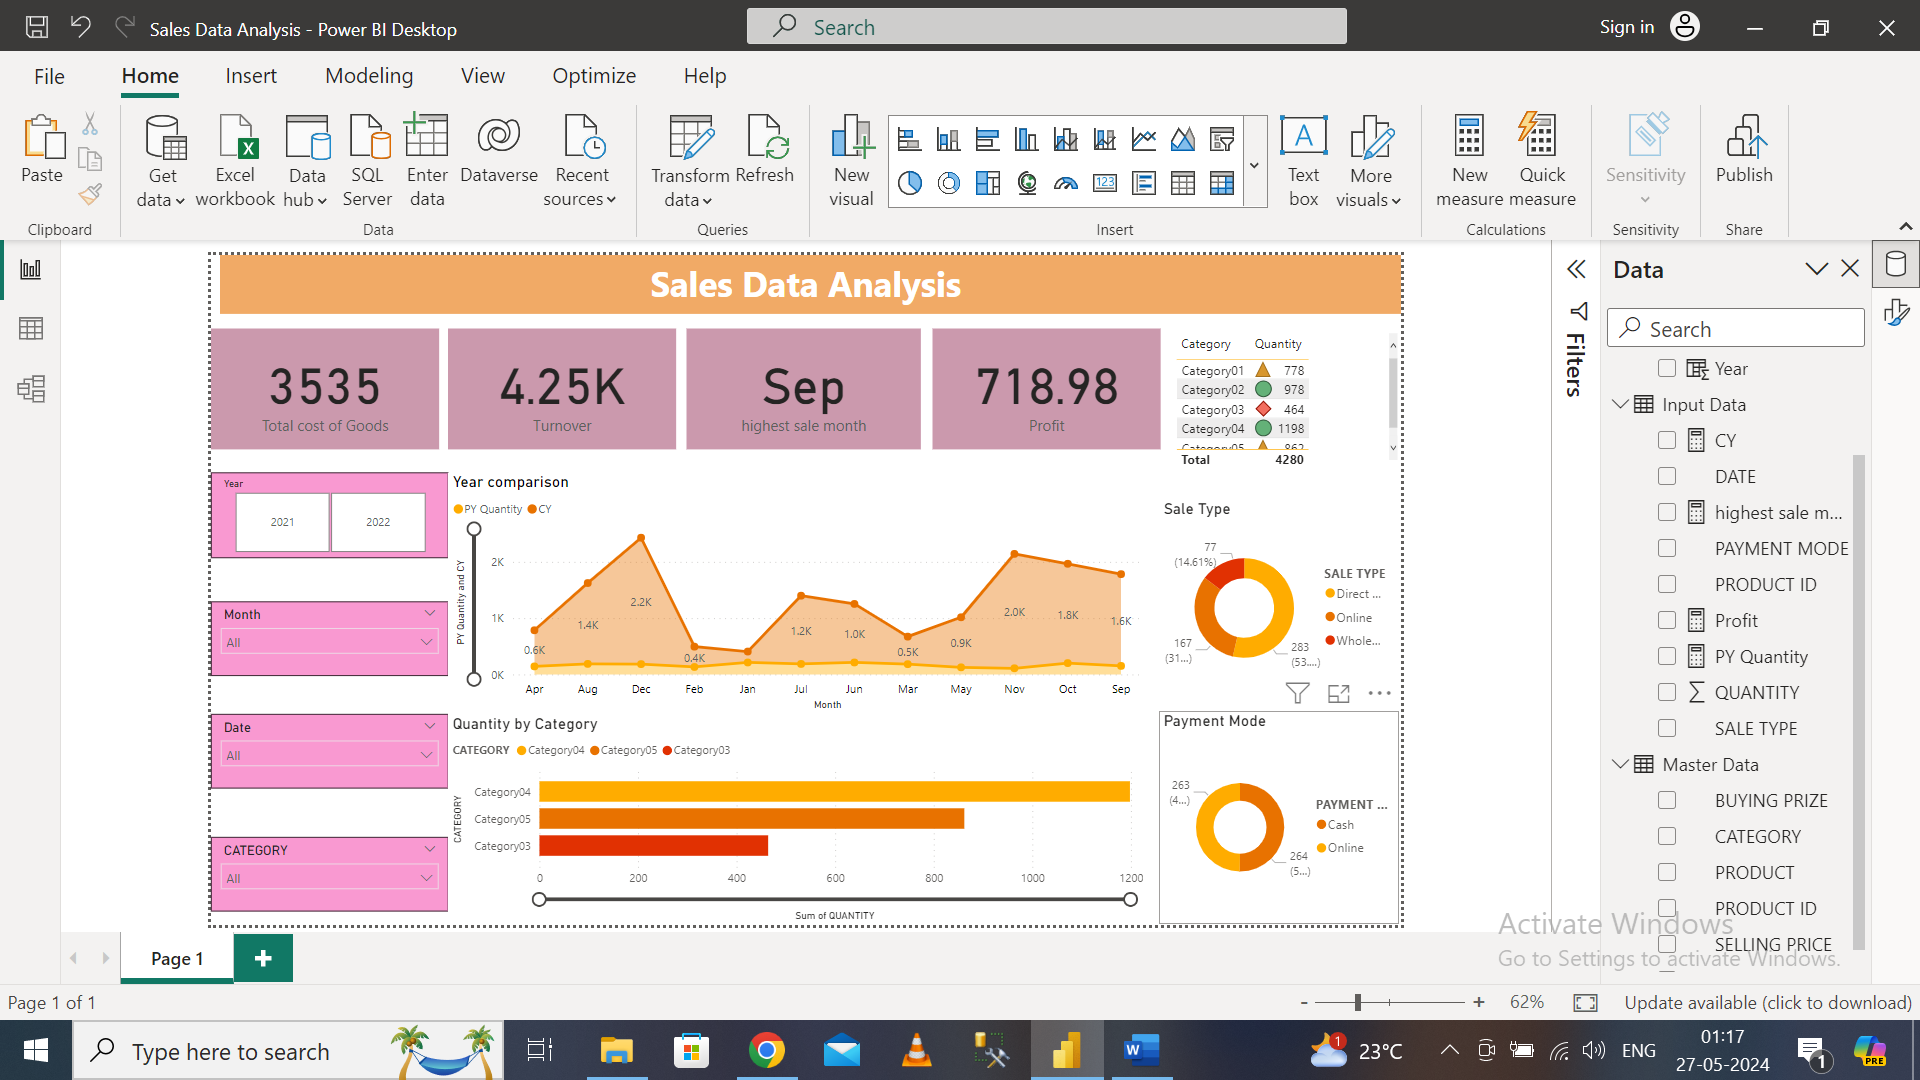

What the dashboard file says about the page in this screenshot:
{"tool":"powerbi","page":{"name":"Page 1","canvas":[1280,720],"ordinal":0},"visuals":[{"type":"textbox","box":[10,0,1270,63.3],"z":0},{"type":"slicer","fields":{"Values":["calender.Year"]},"box":[0,233.3,255,91.7],"z":1000},{"type":"slicer","fields":{"Values":["calender.Date"]},"box":[0,493.3,255,80],"z":2000},{"type":"slicer","fields":{"Values":["calender.Month"]},"box":[0,373.3,255,80],"z":3000},{"type":"slicer","fields":{"Values":["Master Data.CATEGORY"]},"box":[0,625,255,80],"z":4000},{"type":"card","fields":{"Values":["Sum(Master Data.BUYING PRIZE)"]},"box":[0,78.3,245,130],"z":5000},{"type":"card","fields":{"Values":["Sum(Master Data.SELLING PRICE)"]},"box":[255,78.3,245,130],"z":6000},{"type":"card","fields":{"Values":["Input Data.highest sale month"]},"box":[511.7,78.3,251.7,130],"z":7000},{"type":"card","fields":{"Values":["Input Data.Profit"]},"box":[775,78.3,245,130],"z":8000},{"type":"tableEx","fields":{"Values":["Master Data.CATEGORY","Sum(Input Data.QUANTITY)"]},"box":[1031.7,78.3,248.3,155],"z":9000},{"type":"donutChart","title":"Sale Type","fields":{"Category":["Input Data.SALE TYPE"],"Y":["CountNonNull(Input Data.SALE TYPE)"]},"box":[1020,263.3,256.7,213.3],"z":10000},{"type":"donutChart","title":"Payment Mode","fields":{"Category":["Input Data.PAYMENT MODE"],"Y":["CountNonNull(Input Data.PAYMENT MODE)"]},"box":[1020,490,256.7,230],"z":11000},{"type":"stackedAreaChart","title":"Year comparison","fields":{"Y":["Input Data.PY Quantity","Input Data.CY"],"Category":["calender.Month","calender.Year"]},"box":[255,233.3,751.7,260],"z":12000},{"type":"barChart","title":"Quantity by Category","fields":{"Series":["Master Data.CATEGORY"],"Category":["Master Data.CATEGORY"],"Y":["Sum(Input Data.QUANTITY)"]},"box":[255,493,752,227],"z":12001}]}

Visuals, with their boxes on the page's 1280x720 design canvas (x1, y1, x2, y2). These are canvas units, not pixel positions in the 1920x1080 screenshot, which may show the page scaled, cropped or inside an application window:
textbox: (10,0,1280,63)
slicer - calender.Year: (0,233,255,325)
slicer - calender.Date: (0,493,255,573)
slicer - calender.Month: (0,373,255,453)
slicer - Master Data.CATEGORY: (0,625,255,705)
card - Sum(Master Data.BUYING PRIZE): (0,78,245,208)
card - Sum(Master Data.SELLING PRICE): (255,78,500,208)
card - Input Data.highest sale month: (512,78,763,208)
card - Input Data.Profit: (775,78,1020,208)
tableEx - Master Data.CATEGORY x Sum(Input Data.QUANTITY): (1032,78,1280,233)
"Sale Type" donutChart: (1020,263,1277,477)
"Payment Mode" donutChart: (1020,490,1277,720)
"Year comparison" stackedAreaChart: (255,233,1007,493)
"Quantity by Category" barChart: (255,493,1007,720)
